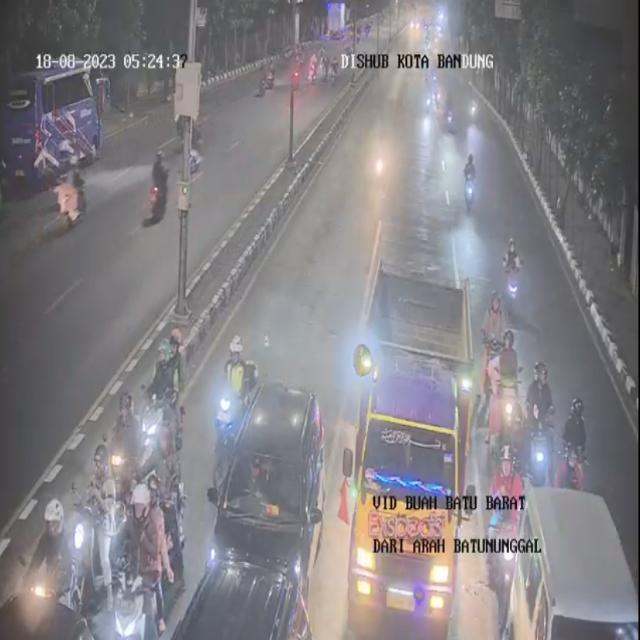cars: (210, 377, 329, 600), (499, 484, 639, 637), (176, 564, 309, 640), (508, 554, 560, 640)
motorcycle: (106, 482, 169, 640), (25, 491, 70, 640), (78, 445, 115, 604), (149, 416, 186, 566), (147, 330, 186, 472), (487, 442, 522, 576), (530, 351, 560, 484), (489, 320, 521, 444), (112, 376, 141, 502), (484, 287, 506, 398), (565, 387, 590, 483), (500, 231, 524, 324), (496, 443, 525, 516), (451, 585, 487, 640), (457, 144, 480, 226)
truck: (360, 268, 470, 639)
